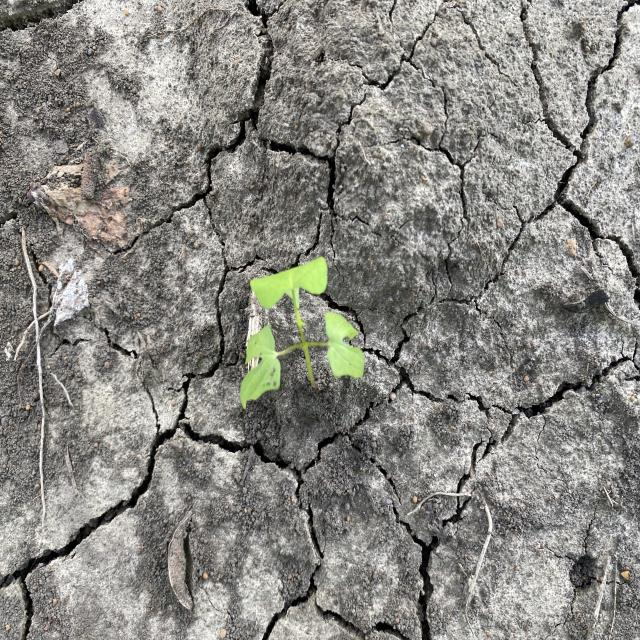MorningGlory: (238, 255, 367, 411)
